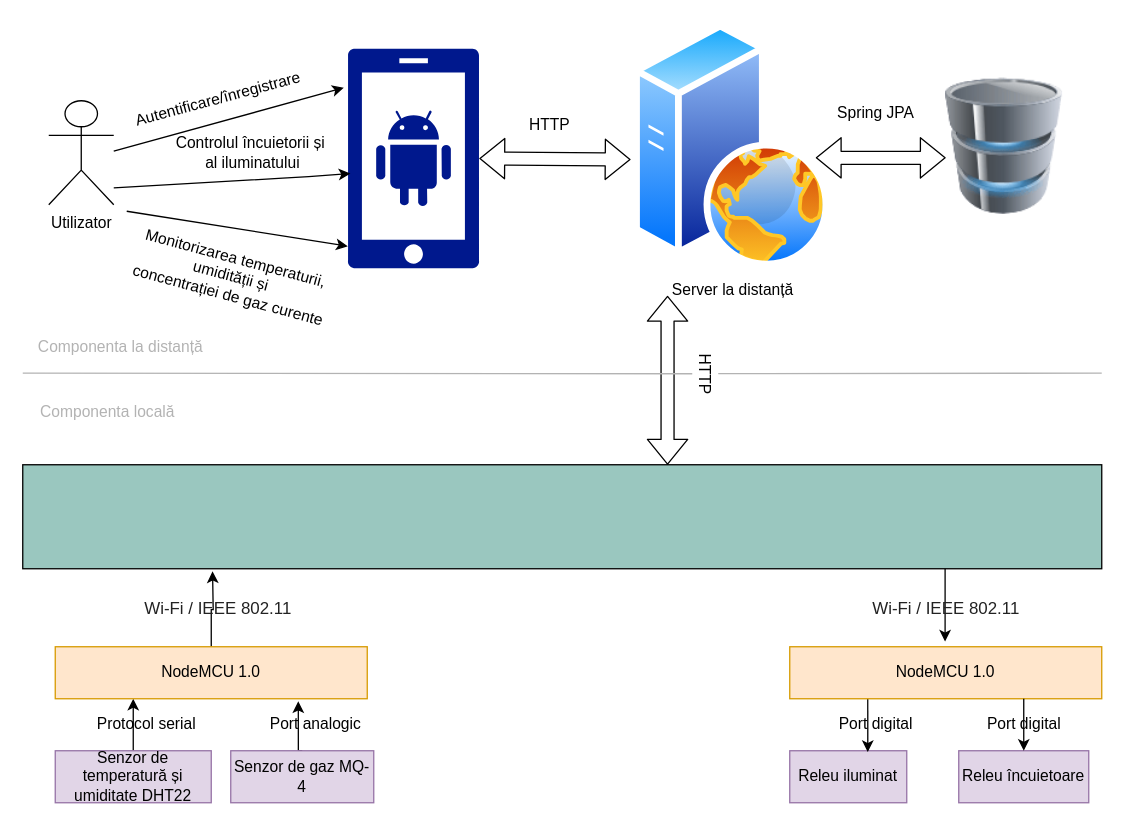
Image size: 1126x827. Some labels were removed from this diagram. Each missing label, with the centre of its shape:
"Aplicație Android" goes at point 413,158.
"Bază de date MySQL" goes at point 1003,145.
"Gateway(Raspberry Pi)" goes at point 561,516.
